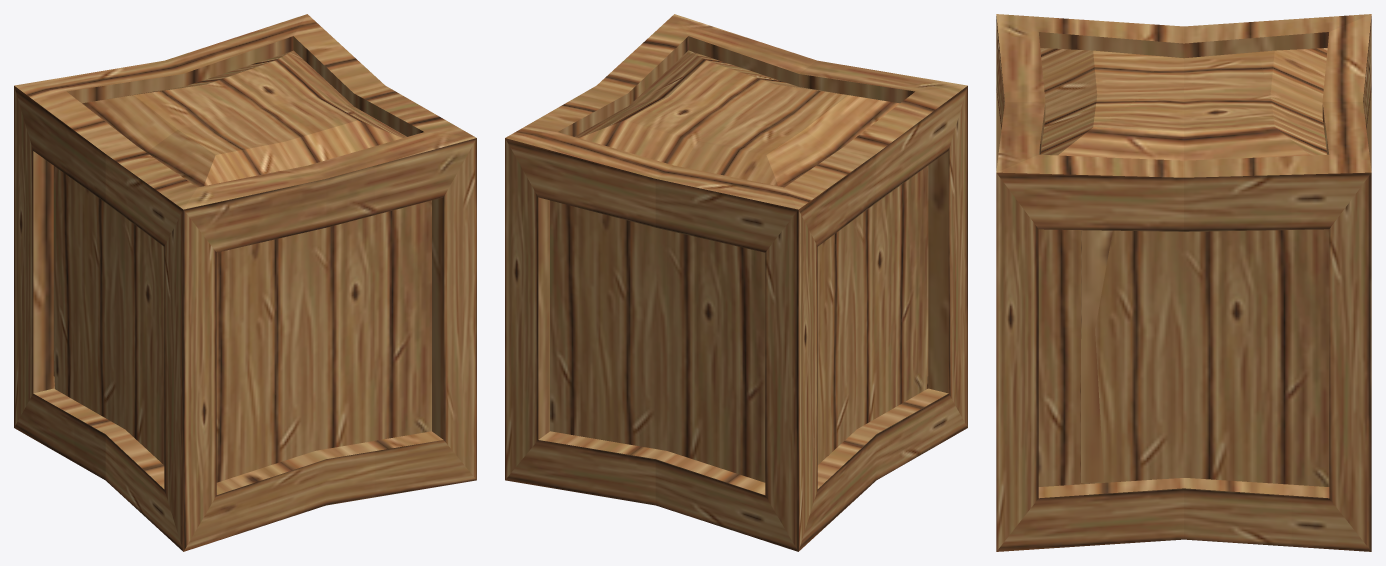
Rendered from box_wood.fbx.
3 renders of one model, left to right at view 1: azimuth 30°, elevation 25°; view 2: azimuth 150°, elevation 25°; view 3: azimuth 270°, elevation 25°, orthographic. The views are drawn at different scales.
Visible parts, largest first — view 1: box_1_2, box_1_3, box_1_1; view 2: box_1_1, box_1_2, box_1_3; view 3: box_1_3, box_1_1, box_1_2.
Part boxes in pixels (left/top/right/bottom): box_1_2: left=74, top=94, right=374, bottom=551; box_1_3: left=172, top=44, right=476, bottom=497; box_1_1: left=14, top=14, right=340, bottom=462; box_1_1: left=505, top=115, right=850, bottom=551; box_1_2: left=739, top=46, right=967, bottom=503; box_1_3: left=544, top=14, right=771, bottom=146; box_1_3: left=996, top=72, right=1291, bottom=551; box_1_1: left=1247, top=14, right=1371, bottom=551; box_1_2: left=996, top=14, right=1263, bottom=170.
Bounding box in the file's own units: 3.44 × 3.88 × 3.44.
